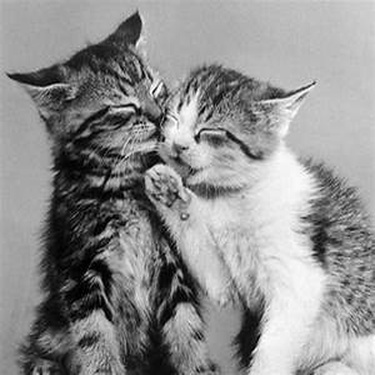cat: (6, 6, 222, 371), (142, 61, 369, 371)
